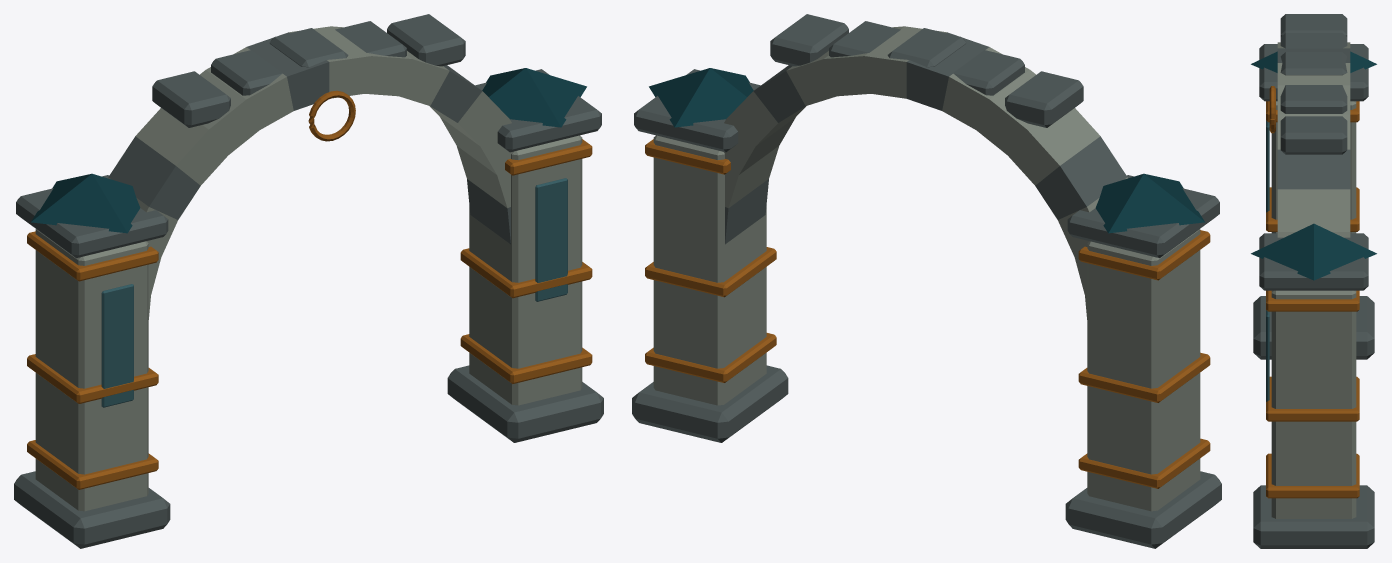
The model's file is Portao_da_cidade_LOD0.fbx.
The picture shows the model from 3 angles, left to right: view 1: azimuth 30°, elevation 25°; view 2: azimuth 150°, elevation 25°; view 3: azimuth 270°, elevation 25°; orthographic projection. The views are drawn at different scales.
Parts seen in each view (by area): view 1: Portao_da_cidade_LOD0; view 2: Portao_da_cidade_LOD0; view 3: Portao_da_cidade_LOD0.
Boxes of the visible parts, x1,y1,x2,y2 form: Portao_da_cidade_LOD0: (14,14,603,548); Portao_da_cidade_LOD0: (632,14,1221,548); Portao_da_cidade_LOD0: (1251,14,1376,548).
Size of the model in its own units: 950 by 685 by 210.
Materials: 1 (1 with a texture image).
